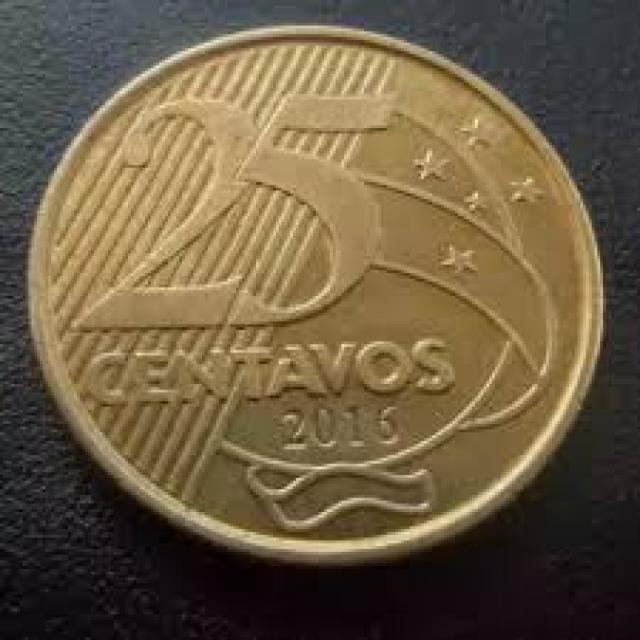25 cent: (30, 27, 609, 560)
